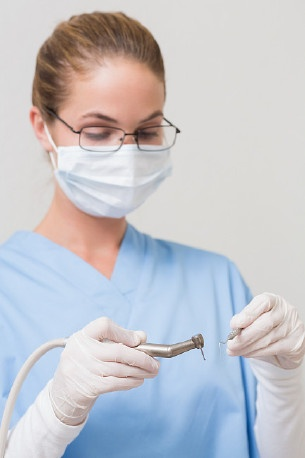Mask: (46, 95, 170, 220)
